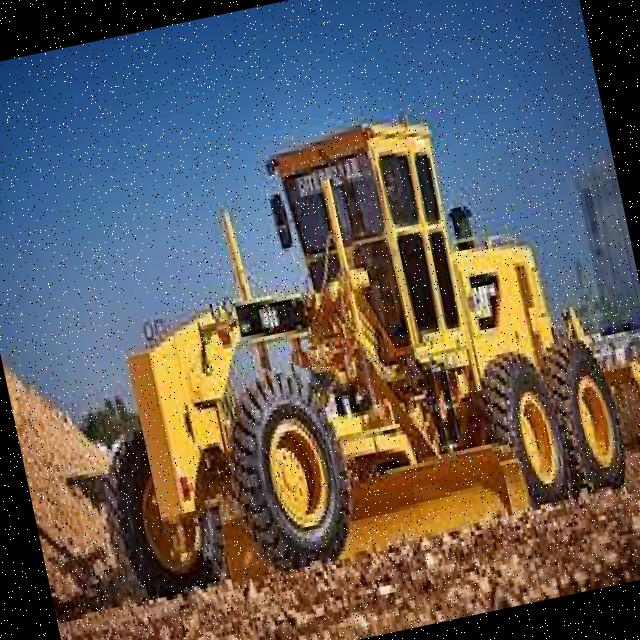Grader: (24, 59, 640, 637)
